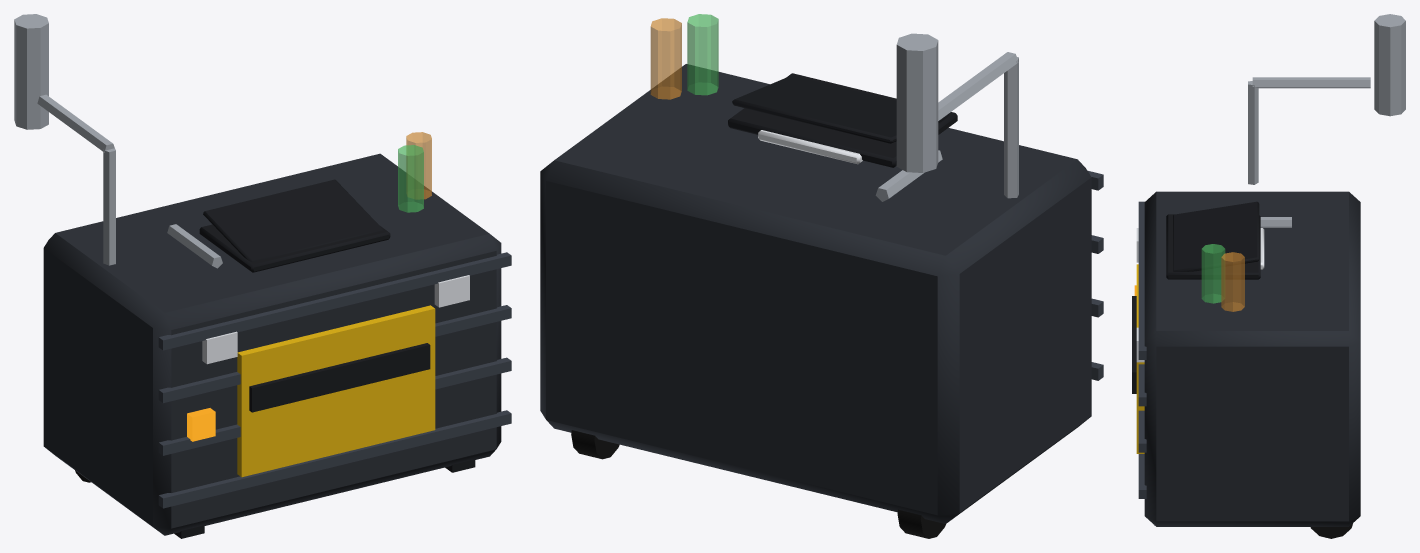
The model's file is sciinstrument_field_lab_trunk.glb.
The picture shows the model from 3 angles, left to right: view 1: azimuth 30°, elevation 25°; view 2: azimuth 150°, elevation 25°; view 3: azimuth 270°, elevation 25°; orthographic projection. The views are drawn at different scales.
Parts seen in each view (by area): view 1: sciinstrument_field_lab_trunk; view 2: sciinstrument_field_lab_trunk; view 3: sciinstrument_field_lab_trunk.
Boxes of the visible parts, left/top/right/bottom form: sciinstrument_field_lab_trunk: left=14, top=14, right=511, bottom=538; sciinstrument_field_lab_trunk: left=540, top=14, right=1103, bottom=538; sciinstrument_field_lab_trunk: left=1132, top=14, right=1405, bottom=538.
Bounding box in the file's own units: 0.91 × 1.09 × 0.697.
